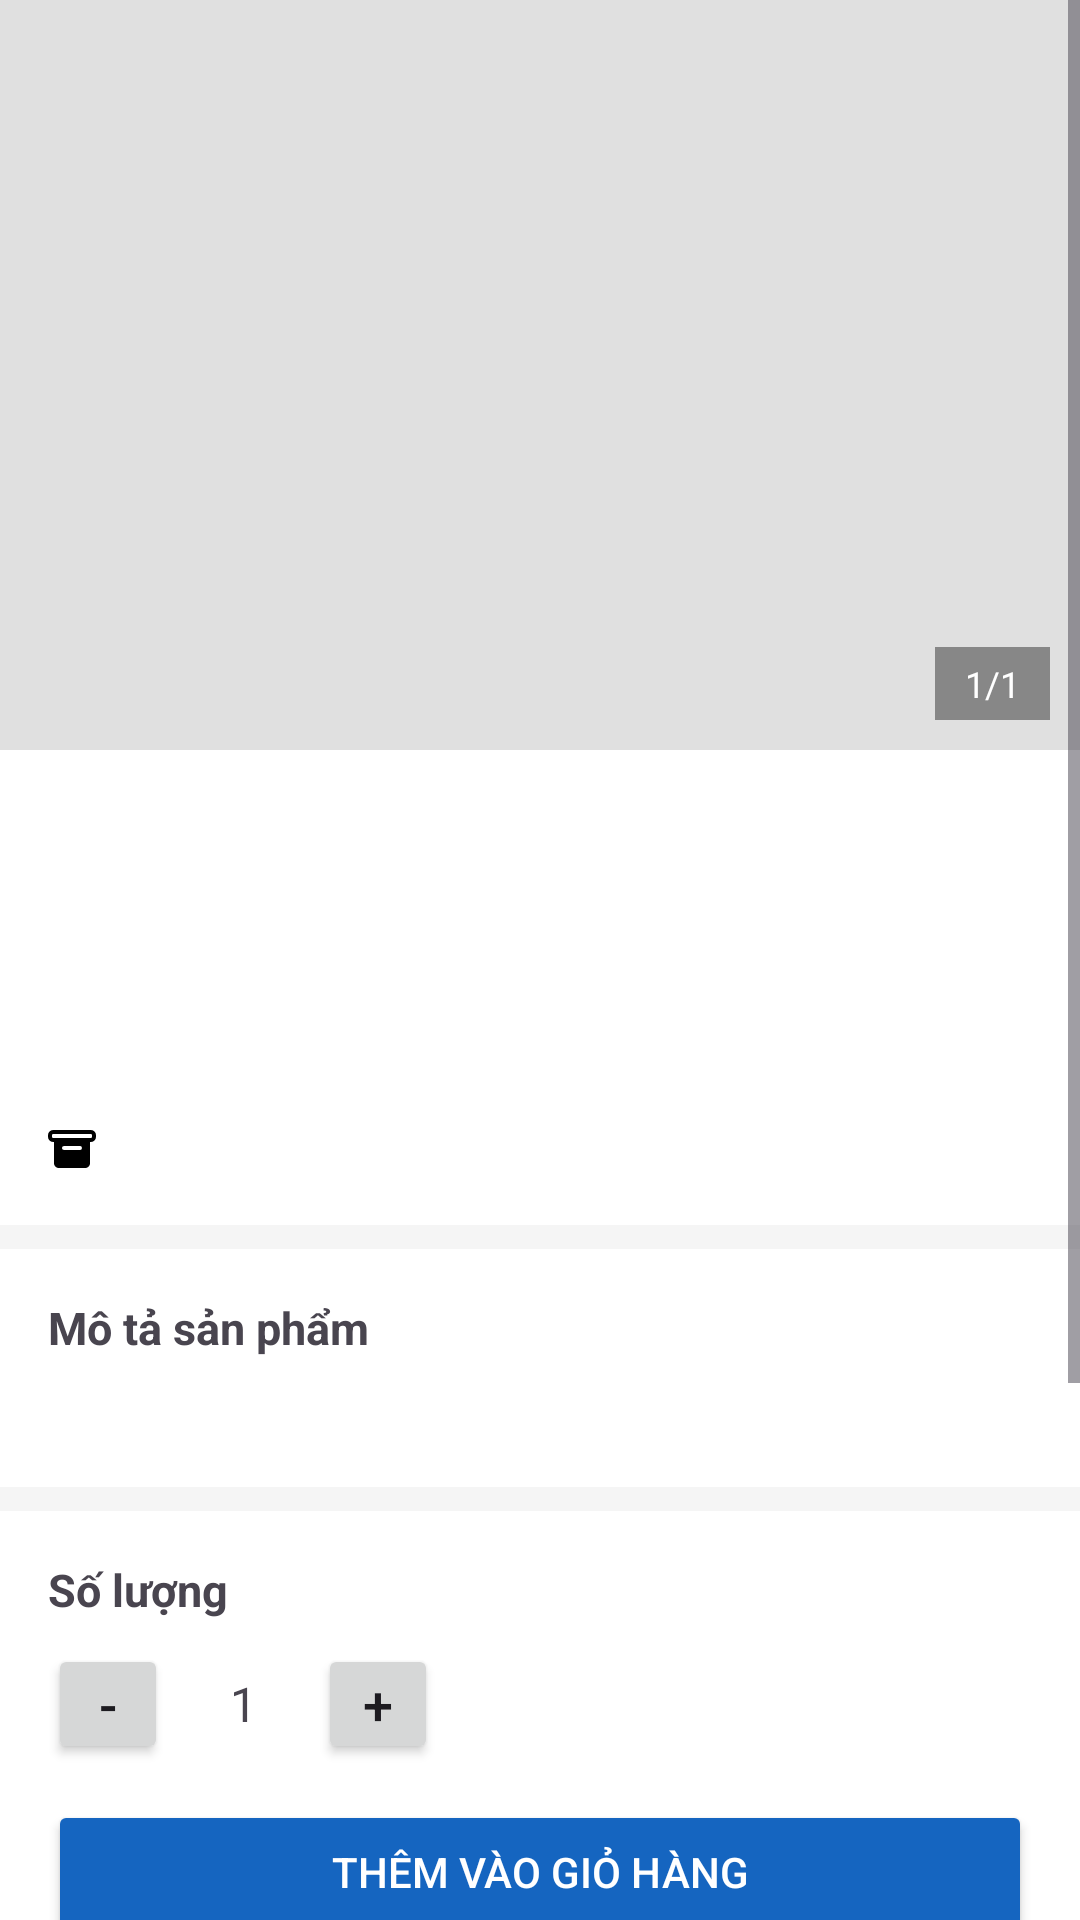

Icons on this 1080×1920 Android screen, each with its box as [left=x1, top=y1, right=x2, bottom=y2]:
product: [left=48, top=1130, right=96, bottom=1168]
